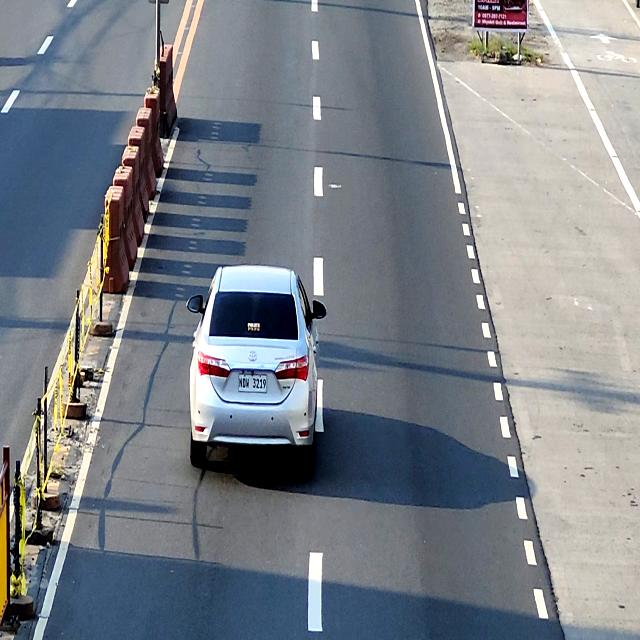Car: (186, 266, 325, 478)
License-Plate: (237, 373, 268, 392)
